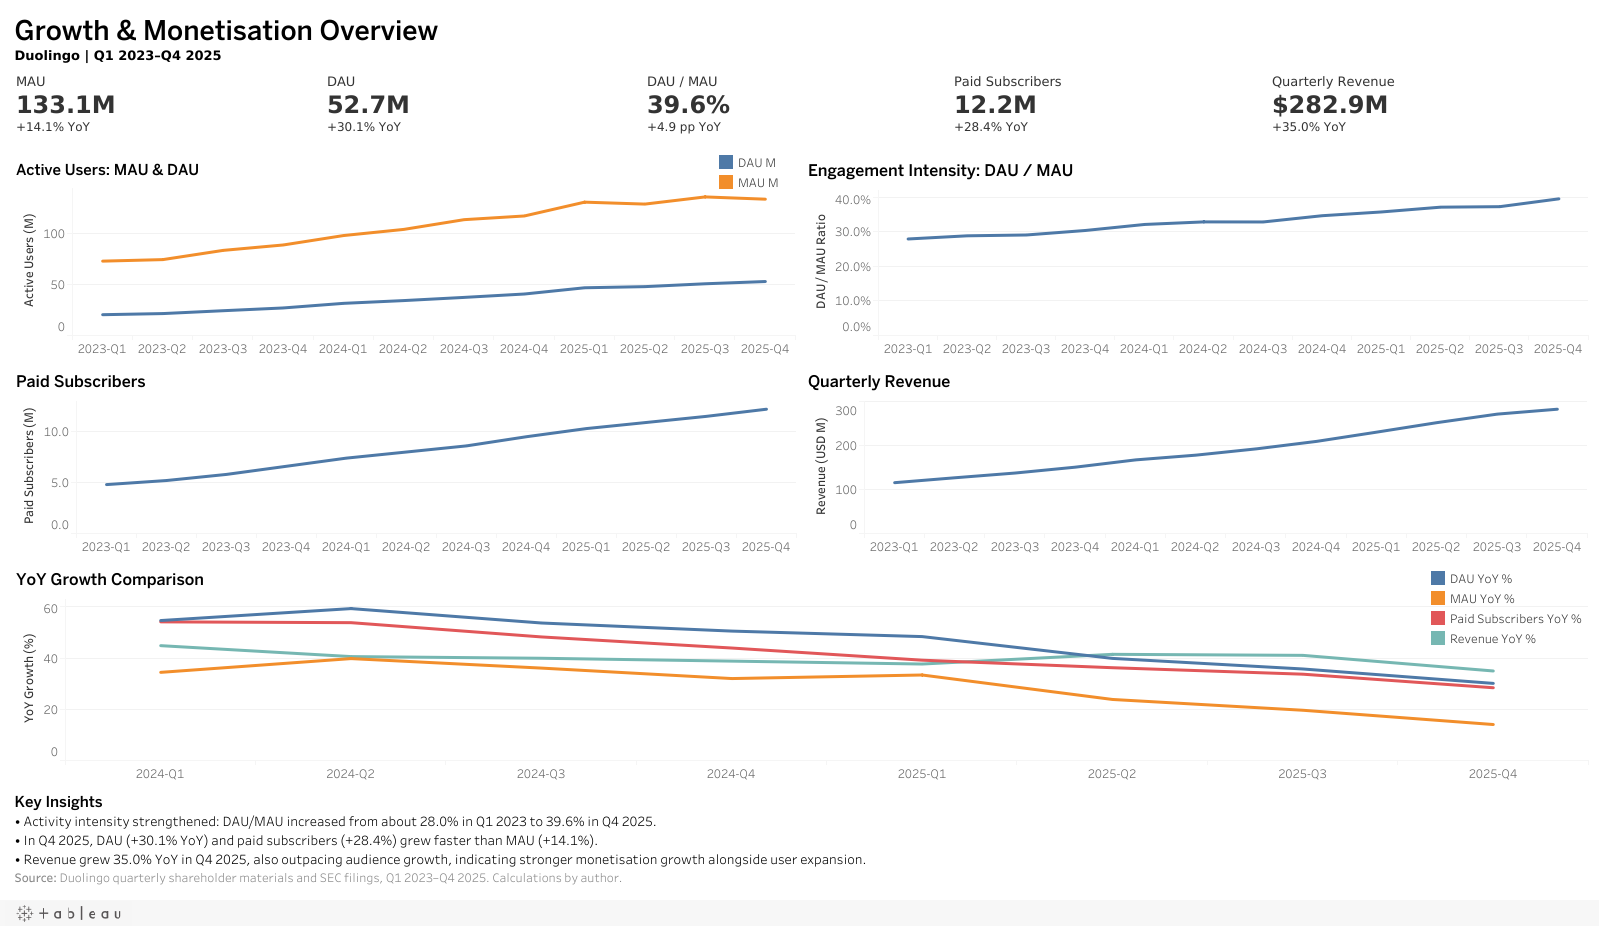

The dashboard page shown, as its layout file describes it:
{"tool":"tableau","page":{"name":"P1_Growth_Monetisation_Overview","canvas":[1600,900],"ordinal":0},"visuals":[{"type":"title","box":[8,8,1584,61]},{"type":"worksheet","title":"P1_KPI_MAU","mark":"Text","box":[8,69,311.4,81]},{"type":"worksheet","title":"P1_KPI_DAU","mark":"Text","box":[319.4,69,319.2,81]},{"type":"worksheet","title":"P1_KPI_Engagement","mark":"Text","box":[638.7,69,307,81]},{"type":"worksheet","title":"P1_KPI_Paid","mark":"Text","box":[945.7,69,318.1,81]},{"type":"worksheet","title":"P1_KPI_Revenue","mark":"Text","box":[1263.8,69,328.2,81]},{"type":"worksheet","title":"P1_User_Growth","mark":"Line","cols":["quarter"],"box":[8,150,792,211]},{"type":"worksheet","title":"P1_Engagement","mark":"Line","rows":["dau_mau_ratio"],"cols":["quarter"],"box":[800,150,792,211]},{"type":"legend","title":"P1_User_Growth","param":"[federated.0jt0x5t01npk2f1ep1lkd0manp0u].[:Measure Names]","box":[716,152,107,48]},{"type":"worksheet","title":"P1_Paid_Subscribers","mark":"Line","rows":["paid_subscribers_m"],"cols":["quarter"],"box":[8,361,792,198]},{"type":"worksheet","title":"P1_Revenue","mark":"Line","rows":["revenue_usd_m"],"cols":["quarter"],"box":[800,361,792,198]},{"type":"worksheet","title":"P1_YoY Growth","mark":"Line","cols":["quarter"],"box":[8,559,1584,227]},{"type":"legend","title":"P1_YoY Growth","param":"[federated.0jt0x5t01npk2f1ep1lkd0manp0u].[:Measure Names]","box":[1428,568,158,98]},{"type":"text","box":[8,786,1584,106]}]}

Visuals, with their boxes in screenshot pixels (x1, y1, x2, y2), scaled from the page's 1600x900 canvas onto the 1599x926 screenshot:
title: (8,8,1591,71)
"P1_KPI_MAU" worksheet (Text marks): (8,71,319,154)
"P1_KPI_DAU" worksheet (Text marks): (319,71,638,154)
"P1_KPI_Engagement" worksheet (Text marks): (638,71,945,154)
"P1_KPI_Paid" worksheet (Text marks): (945,71,1263,154)
"P1_KPI_Revenue" worksheet (Text marks): (1263,71,1591,154)
"P1_User_Growth" worksheet (Line marks): (8,154,800,371)
"P1_Engagement" worksheet (Line marks): (800,154,1591,371)
"P1_User_Growth" legend: (716,156,822,206)
"P1_Paid_Subscribers" worksheet (Line marks): (8,371,800,575)
"P1_Revenue" worksheet (Line marks): (800,371,1591,575)
"P1_YoY Growth" worksheet (Line marks): (8,575,1591,809)
"P1_YoY Growth" legend: (1427,584,1585,685)
text: (8,809,1591,918)
